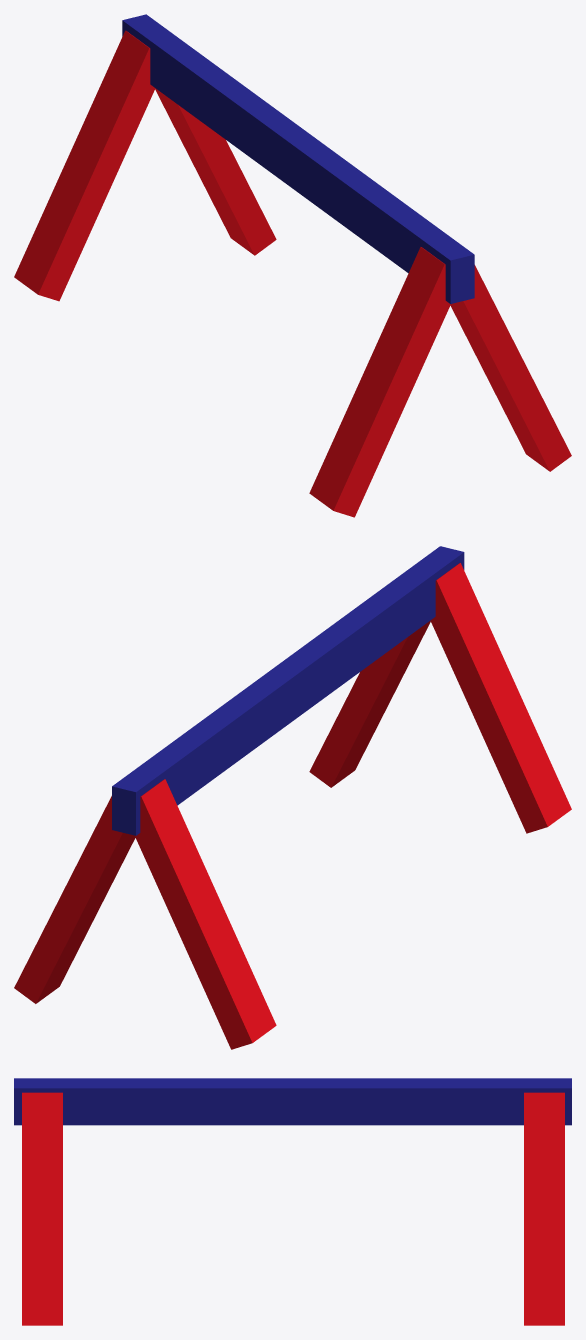
Rendered from FenceSTOP.fbx.
3 views of the same model, one above another, from view 1: azimuth 30°, elevation 25°; view 2: azimuth 150°, elevation 25°; view 3: azimuth 270°, elevation 25° (orthographic). The views are drawn at different scales.
Visible parts, largest first — view 1: Fence; view 2: Fence; view 3: Fence.
Boxes of the visible parts, x1=… form: Fence: x1=14, y1=14, x2=571, y2=517; Fence: x1=14, y1=546, x2=571, y2=1049; Fence: x1=14, y1=1078, x2=571, y2=1325.
Size of the model in its own units: 101 by 97.29 by 241.
